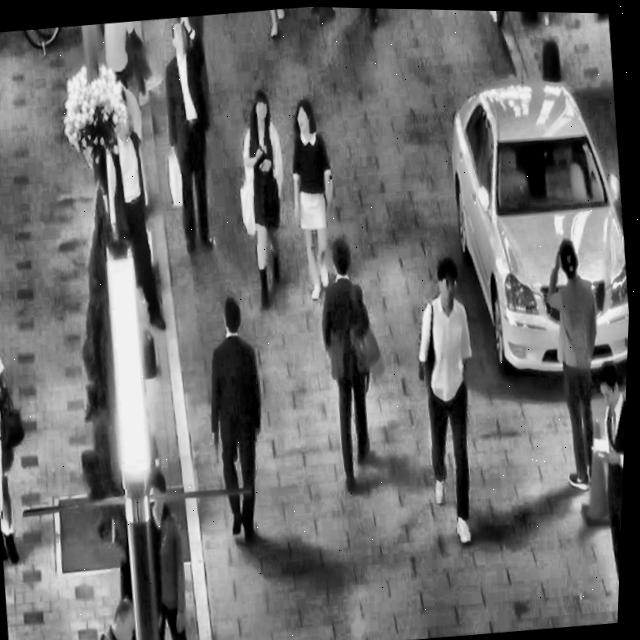light_vehicle: (430, 49, 639, 392)
